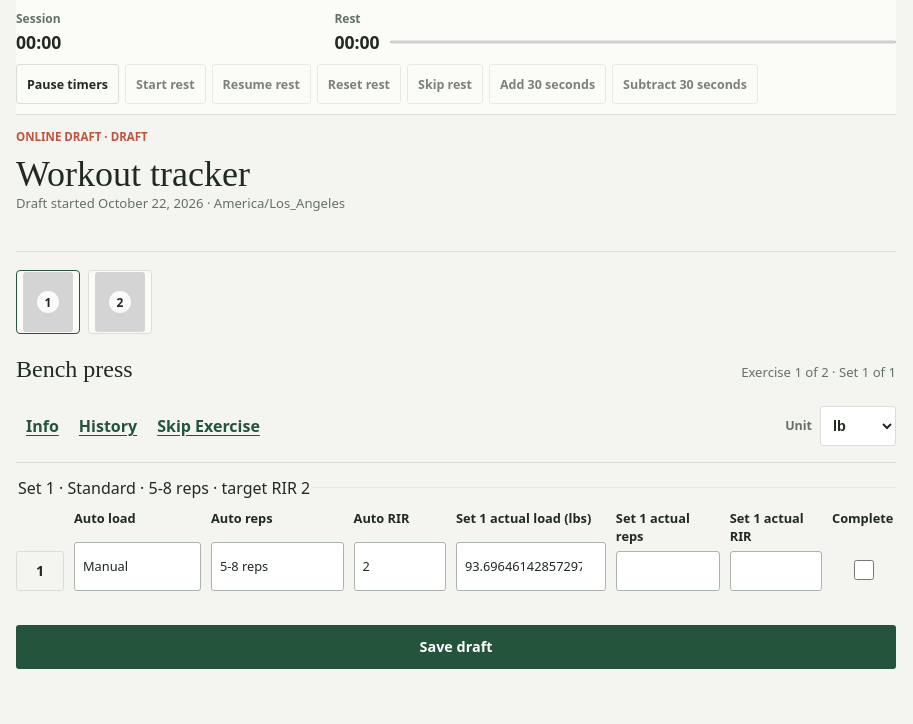
Test case: uses the effective unit and preserves a fractional load when switching units
Click the button "Save draft". click: (456, 647)
box: [16,625,896,669]
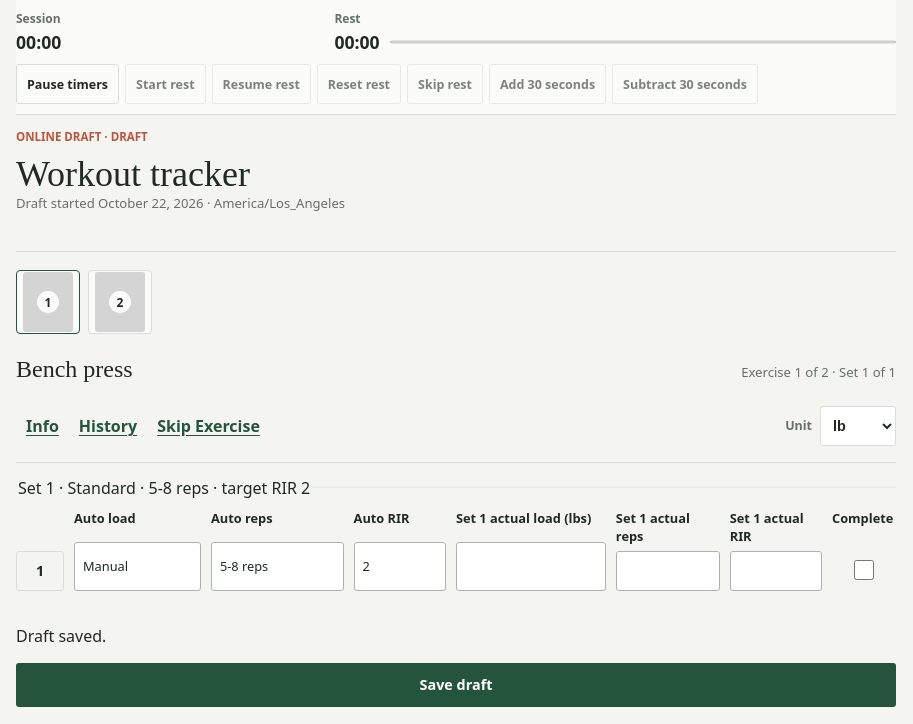
expect the text "Draft saved." is shown: met, box [16,625,106,647]
